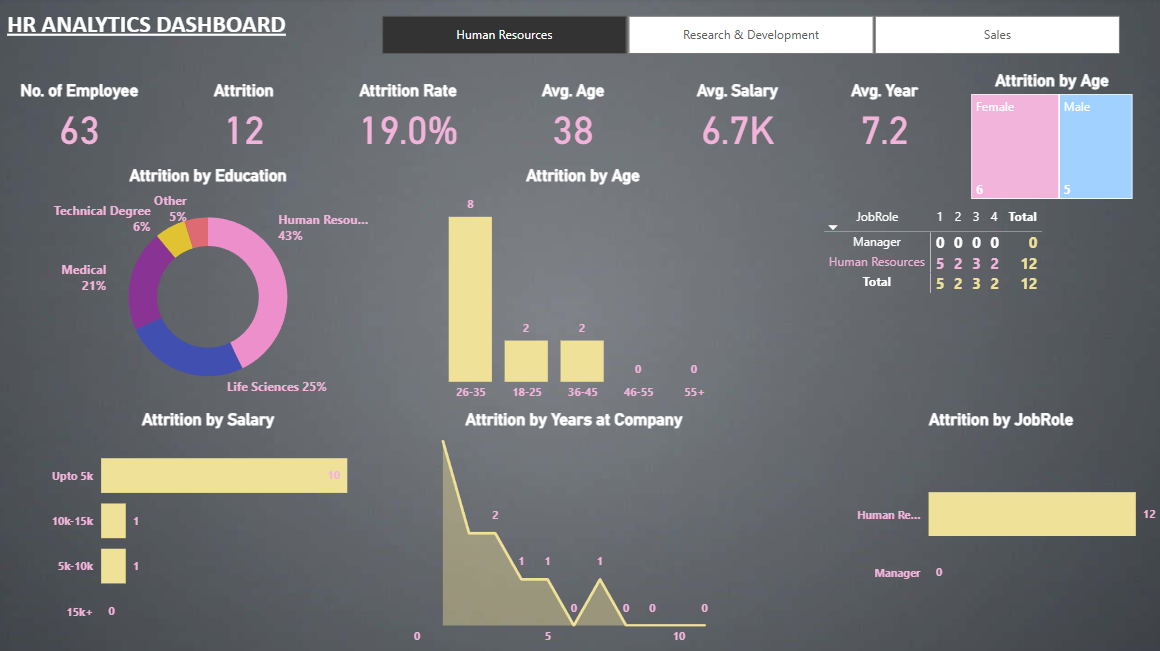

What the dashboard file says about the page in this screenshot:
{"tool":"powerbi","page":{"name":"Page 1","canvas":[1280,720],"ordinal":0},"visuals":[{"type":"card","title":"No. of Employee","fields":{"Values":["CountNonNull(HR_Analytics.EmpID)"]},"box":[0,92,181.1,80.6],"z":0},{"type":"card","title":"Attrition","fields":{"Values":["Sum(HR_Analytics.AttritionCount)"]},"box":[181.1,92,179.7,80.6],"z":1000},{"type":"card","title":"Attrition Rate","fields":{"Values":["HR_Analytics.AttritionRate"]},"box":[360.7,92,181.1,80.6],"z":2000},{"type":"card","title":"Avg. Age","fields":{"Values":["Avg(HR_Analytics.Age)"]},"box":[541.8,92,181.1,80.6],"z":3000},{"type":"card","title":"Avg. Salary","fields":{"Values":["Avg(HR_Analytics.MonthlyIncome)"]},"box":[722.9,92,179.7,80.6],"z":4000},{"type":"card","title":"Avg. Year ","fields":{"Values":["Avg(HR_Analytics.YearsAtCompany)"]},"box":[884.2,92,181.1,80.6],"z":5000},{"type":"donutChart","title":"Attrition by Education","fields":{"Category":["HR_Analytics.EducationField"],"Y":["CountNonNull(HR_Analytics.Attrition)"]},"box":[53.8,185.3,356.5,267.4],"z":6000},{"type":"columnChart","title":"Attrition by Age","fields":{"Category":["HR_Analytics.AgeGroup"],"Y":["Sum(HR_Analytics.AttritionCount)"]},"box":[466.8,185.3,353.7,267.4],"z":7000},{"type":"pivotTable","fields":{"Rows":["HR_Analytics.JobRole"],"Columns":["HR_Analytics.JobSatisfaction"],"Values":["Sum(HR_Analytics.AttritionCount)"]},"box":[902.6,226.3,374.9,267.4],"z":8000},{"type":"barChart","title":"Attrition by Salary","fields":{"Category":["HR_Analytics.SalarySlab"],"Y":["Sum(HR_Analytics.AttritionCount)"]},"box":[53.8,452.7,356.5,267.4],"z":9000},{"type":"barChart","title":"Attrition by JobRole","fields":{"Category":["HR_Analytics.JobRole"],"Y":["Sum(HR_Analytics.AttritionCount)"]},"box":[925.2,452.7,355.1,267.4],"z":10000},{"type":"areaChart","title":"Attrition by Years at Company","fields":{"Category":["HR_Analytics.YearsAtCompany"],"Y":["Sum(HR_Analytics.AttritionCount)"]},"box":[445.6,452.7,374.9,267.4],"z":11000},{"type":"treemap","title":"Attrition by Age","fields":{"Group":["HR_Analytics.Gender"],"Values":["Sum(HR_Analytics.AttritionCount)"]},"box":[1065.3,80.6,186.7,145.7],"z":12000},{"type":"slicer","fields":{"Values":["HR_Analytics.Department"]},"box":[396.1,0,860.1,69.3],"z":13000},{"type":"textbox","box":[0,8.5,328.2,60.8],"z":14000}]}

Visuals, with their boxes in screenshot pixels (x1, y1, x2, y2), scaled from the page's 1280x720 canvas onto the 1160x651 screenshot:
"No. of Employee" card: 0,83,164,156
"Attrition" card: 164,83,327,156
"Attrition Rate" card: 327,83,491,156
"Avg. Age" card: 491,83,655,156
"Avg. Salary" card: 655,83,818,156
"Avg. Year " card: 801,83,965,156
"Attrition by Education" donutChart: 49,168,372,409
"Attrition by Age" columnChart: 423,168,744,409
pivotTable - HR_Analytics.JobRole x HR_Analytics.JobSatisfaction: 818,205,1158,446
"Attrition by Salary" barChart: 49,409,372,650
"Attrition by JobRole" barChart: 838,409,1159,650
"Attrition by Years at Company" areaChart: 404,409,744,650
"Attrition by Age" treemap: 965,73,1135,205
slicer - HR_Analytics.Department: 359,0,1138,63
textbox: 0,8,297,63
